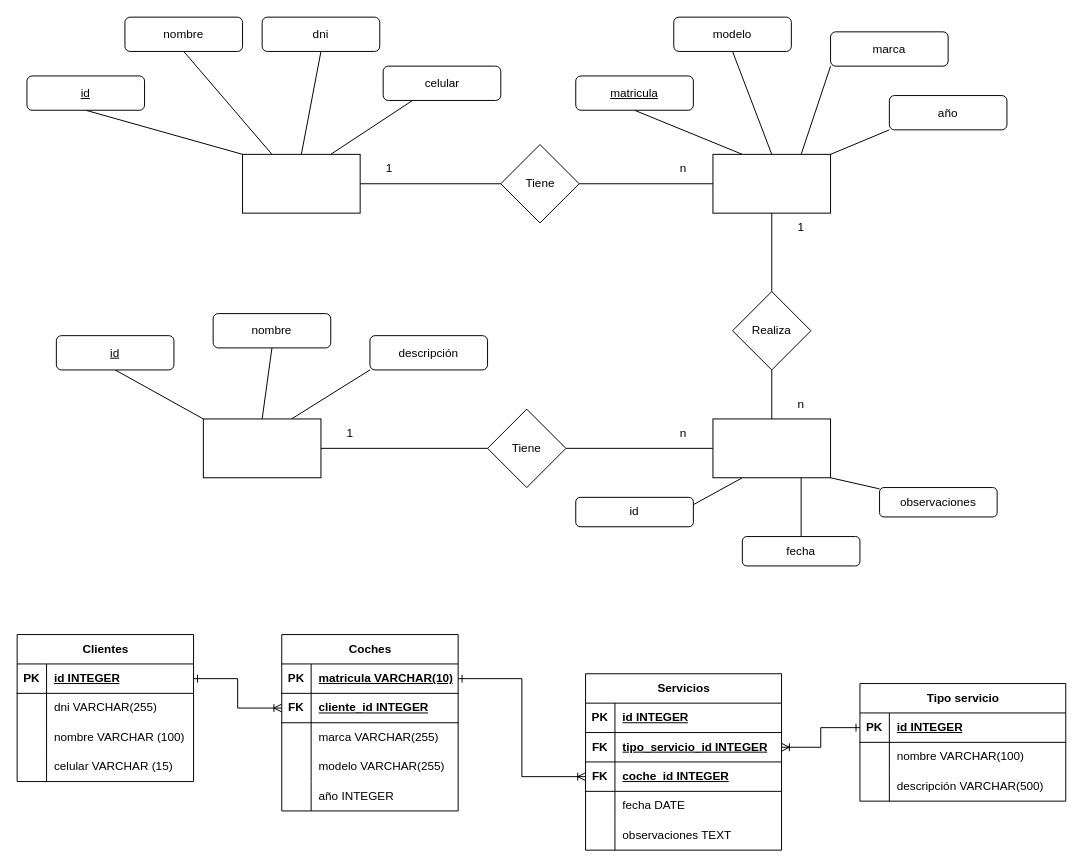
The diagram is 1083 pixels wide and 867 high, and some of its shapes have lost their labels. The shapes that lost their labels are listed below. From the top down, each one's centre as x and y in pixels, then its label:
At point 301,183: "Cliente".
At point 771,183: "Coche".
At point 261,448: "TipoServicio".
At point 771,448: "Servicio".
